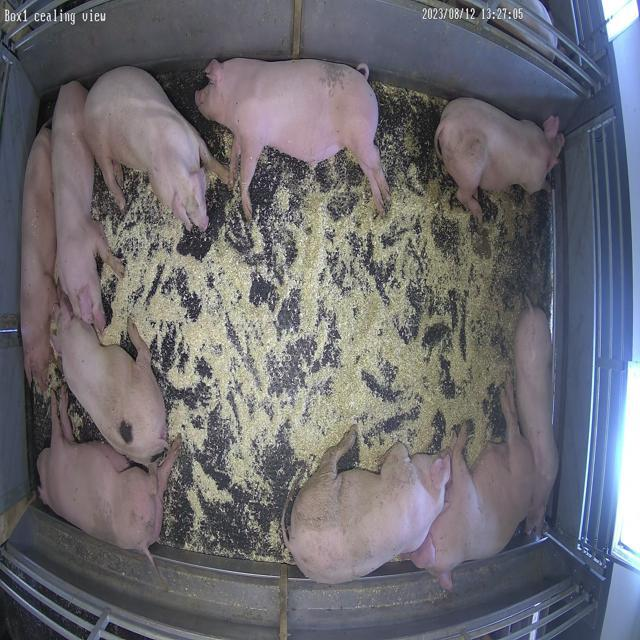Dirt: (469, 186, 553, 336)
Pig: (196, 58, 390, 218), (287, 426, 452, 584), (410, 384, 535, 592), (37, 392, 180, 560), (85, 66, 228, 230), (52, 304, 167, 464), (51, 81, 120, 330), (436, 97, 566, 218), (516, 306, 560, 535), (19, 126, 57, 390)
